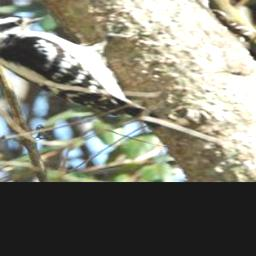Woodpecker: (0, 14, 147, 118)
